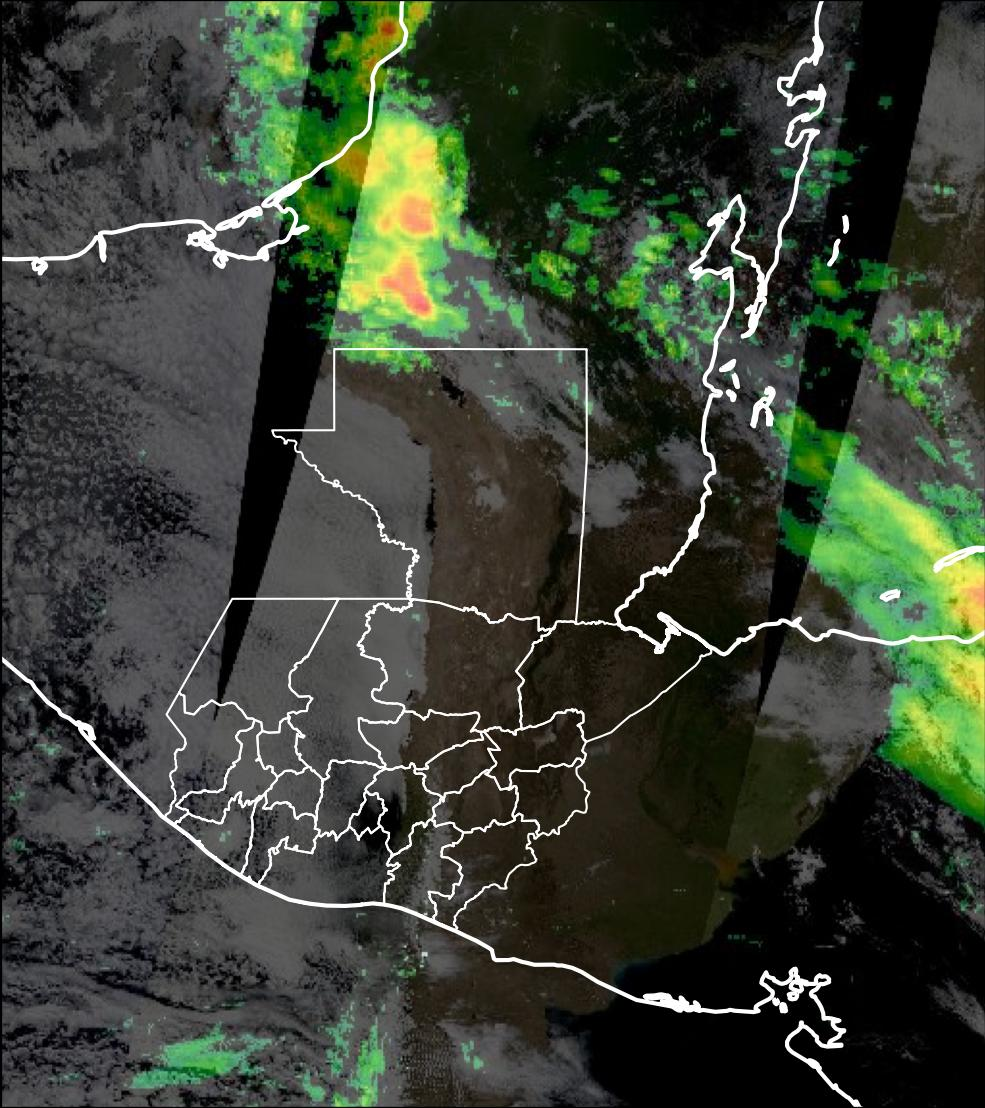precipitacion: (348, 249, 460, 334)
